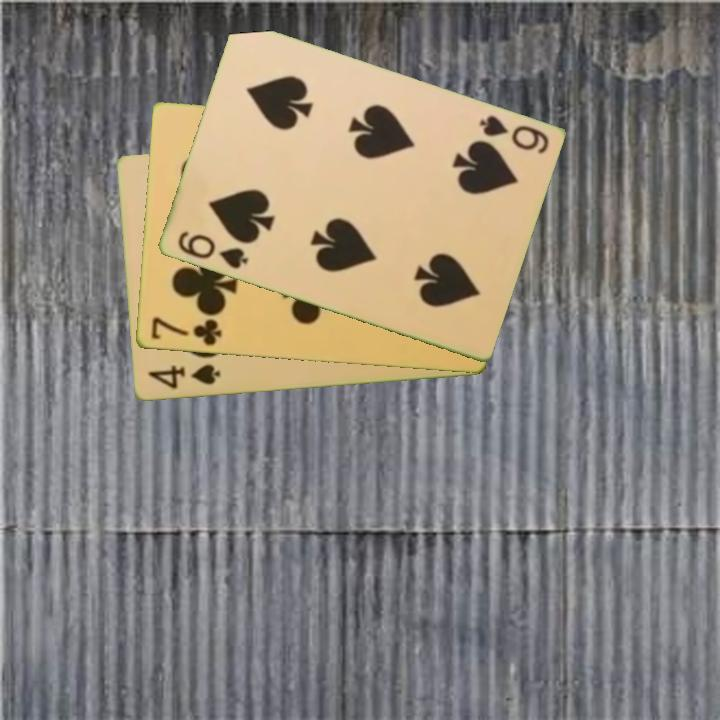4s: (144, 361, 223, 392)
6s: (475, 111, 551, 157), (174, 228, 251, 272)
7c: (147, 314, 224, 349)
